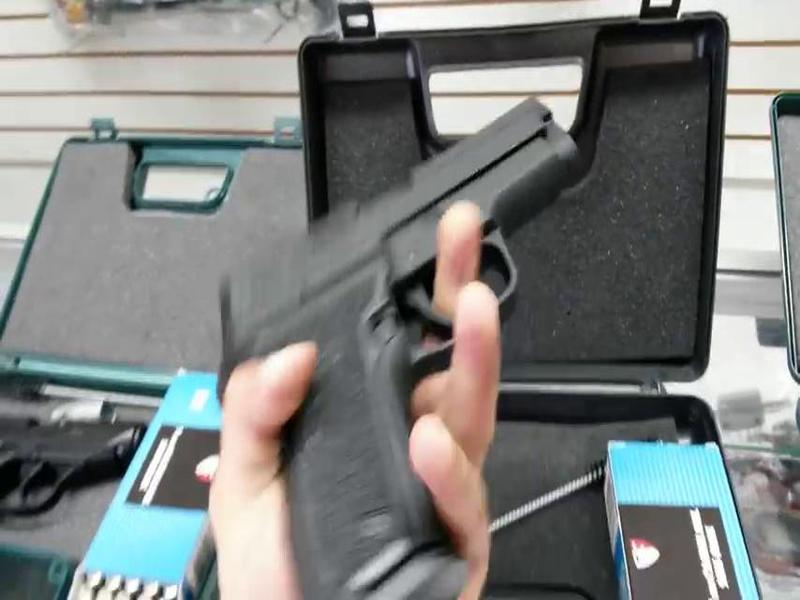Pistola: (187, 103, 590, 560)
